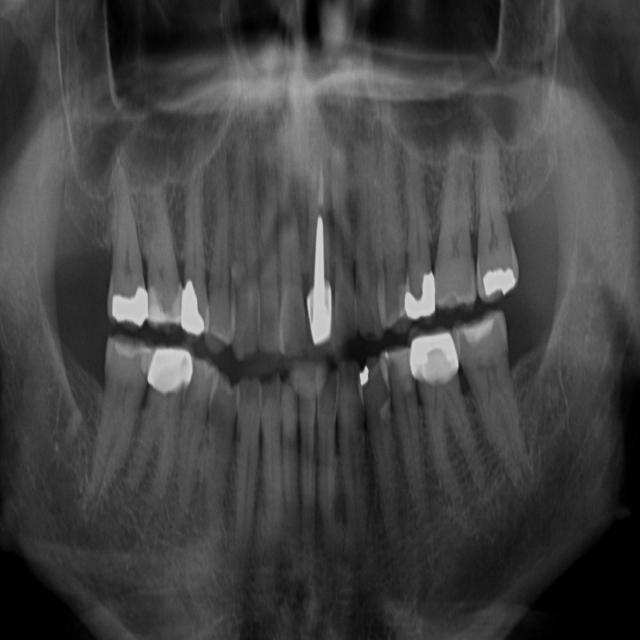dentin-curugu: (309, 362, 339, 412)
dolgu: (110, 280, 154, 331), (400, 272, 444, 318), (479, 256, 519, 301), (185, 277, 212, 336), (156, 286, 182, 328), (355, 364, 380, 392)
kanal-tedavisi: (300, 166, 344, 303)
kaplama: (146, 345, 195, 395), (413, 336, 455, 379)
